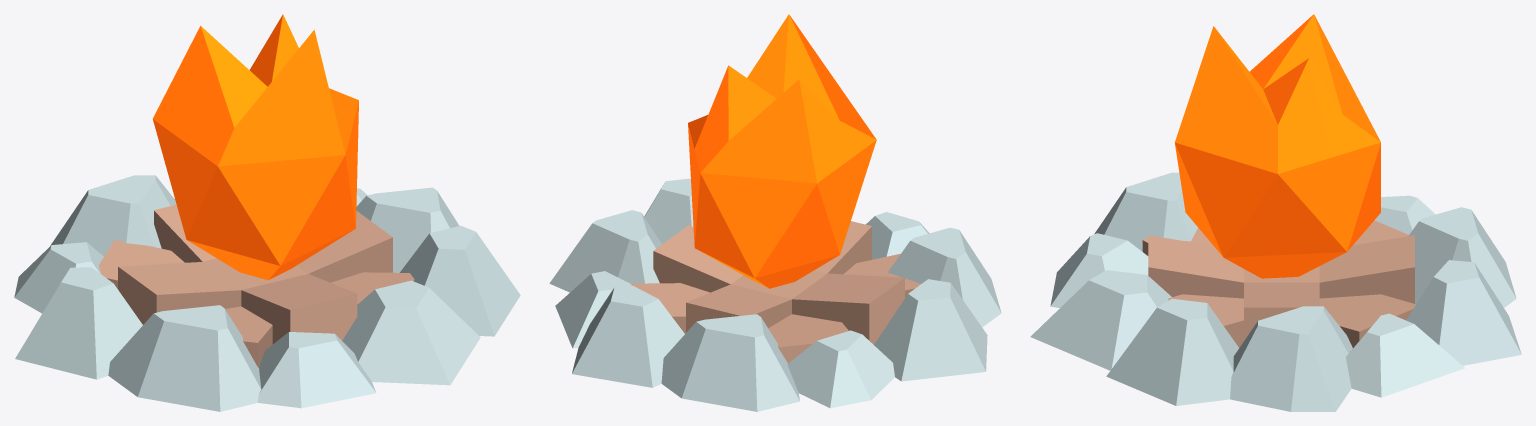
File: campfire.glb
3 views of the same model, side by side, from view 1: azimuth 30°, elevation 25°; view 2: azimuth 150°, elevation 25°; view 3: azimuth 270°, elevation 25° (orthographic). The views are drawn at different scales.
Parts seen in each view (by area): view 1: fireplace; view 2: fireplace; view 3: fireplace.
Part boxes in pixels (x1,y1,x2,y2): fireplace: [14, 14, 520, 411]; fireplace: [549, 14, 1001, 411]; fireplace: [1030, 14, 1521, 411].
Bounding box in the file's own units: 0.4007 × 0.2494 × 0.382.
